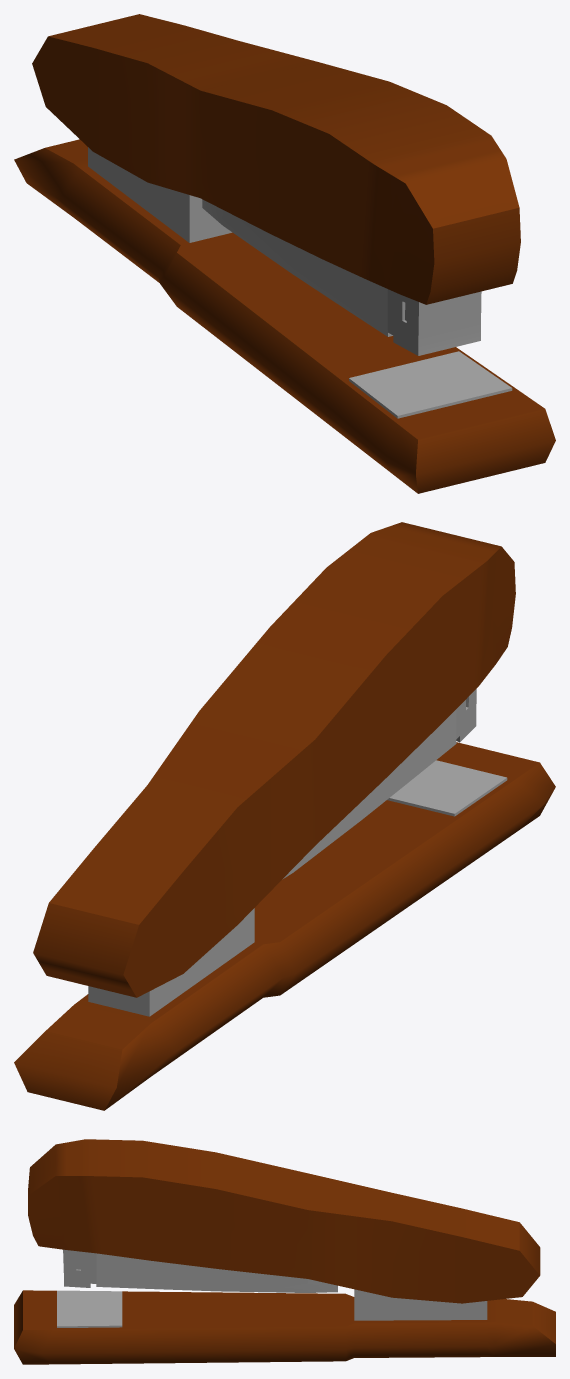
File: Stapler 1.fbx
The picture shows the model from 3 angles, top to bottom: view 1: azimuth 30°, elevation 25°; view 2: azimuth 150°, elevation 25°; view 3: azimuth 270°, elevation 25°; orthographic projection. The views are drawn at different scales.
Parts seen in each view (by area): view 1: stapler_tophalf, stapler_bot, stapler_metal; view 2: stapler_tophalf, stapler_bot, stapler_metal; view 3: stapler_tophalf, stapler_bot, stapler_metal.
Part boxes in pixels (x1=…): stapler_tophalf: x1=32, y1=14, x2=520, y2=304; stapler_bot: x1=14, y1=139, x2=555, y2=493; stapler_metal: x1=202, y1=199, x2=481, y2=355; stapler_tophalf: x1=33, y1=522, x2=515, y2=997; stapler_bot: x1=14, y1=742, x2=555, y2=1110; stapler_metal: x1=282, y1=689, x2=476, y2=879; stapler_tophalf: x1=28, y1=1139, x2=540, y2=1303; stapler_bot: x1=14, y1=1289, x2=555, y2=1364; stapler_metal: x1=63, y1=1249, x2=337, y2=1292.
Bounding box in the file's own units: 0.1392 × 0.2371 × 0.6219.
